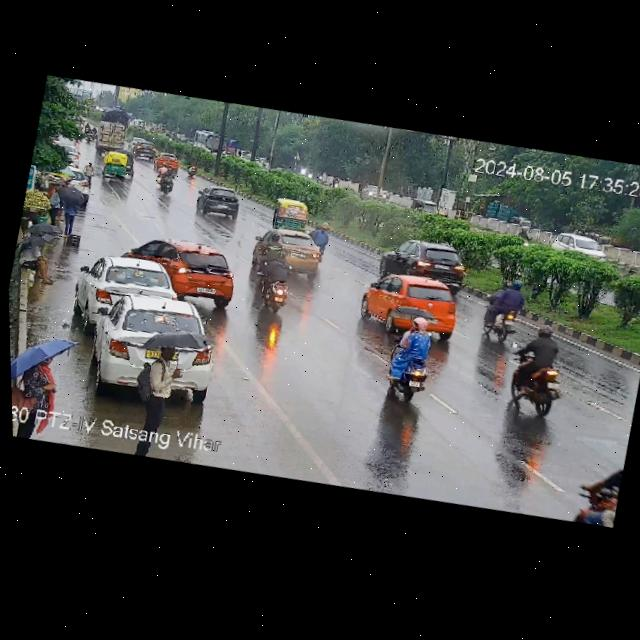bus: (192, 126, 232, 158)
car: (78, 283, 228, 412), (65, 243, 184, 348), (112, 225, 240, 314), (349, 260, 469, 348), (378, 228, 478, 293), (247, 220, 328, 286), (193, 182, 250, 226), (268, 192, 317, 236), (95, 147, 139, 189), (131, 141, 159, 162)
motorcycle: (500, 317, 576, 420), (380, 307, 442, 408), (566, 444, 628, 529), (473, 271, 537, 348), (252, 246, 298, 318), (256, 230, 290, 282), (305, 216, 338, 267), (157, 163, 179, 196), (185, 155, 202, 180), (82, 126, 96, 145), (332, 176, 342, 188)
person: (126, 322, 211, 430), (10, 324, 80, 411), (10, 214, 66, 291), (38, 173, 93, 239), (79, 160, 100, 190)
